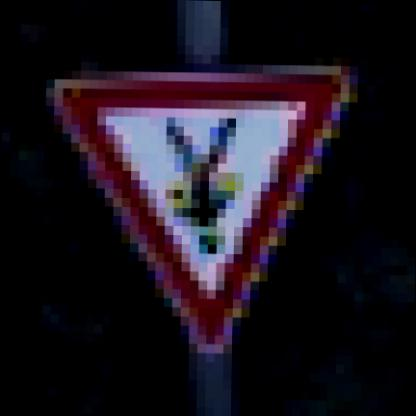crosswalk: (18, 14, 364, 367)
